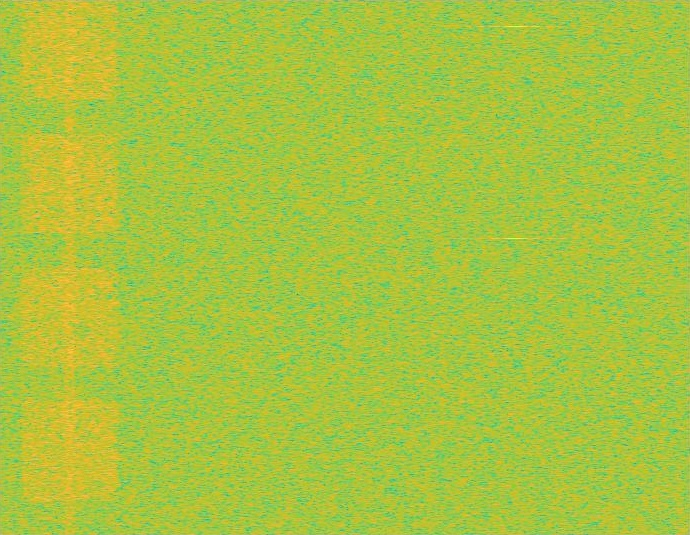5G: (18, 0, 122, 534)
DSSS: (63, 0, 77, 534)
Radar: (509, 0, 523, 534)
